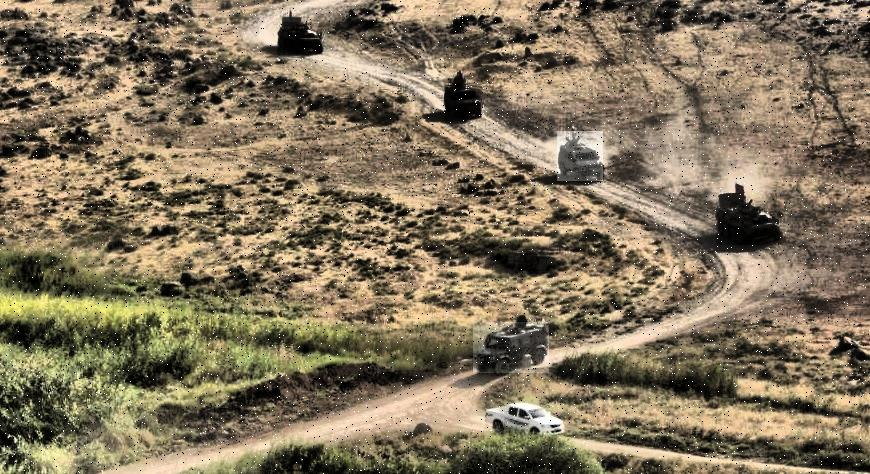military-vehicle: (473, 323, 549, 374), (717, 193, 782, 245), (557, 132, 603, 182), (277, 22, 322, 55), (444, 84, 482, 122)
